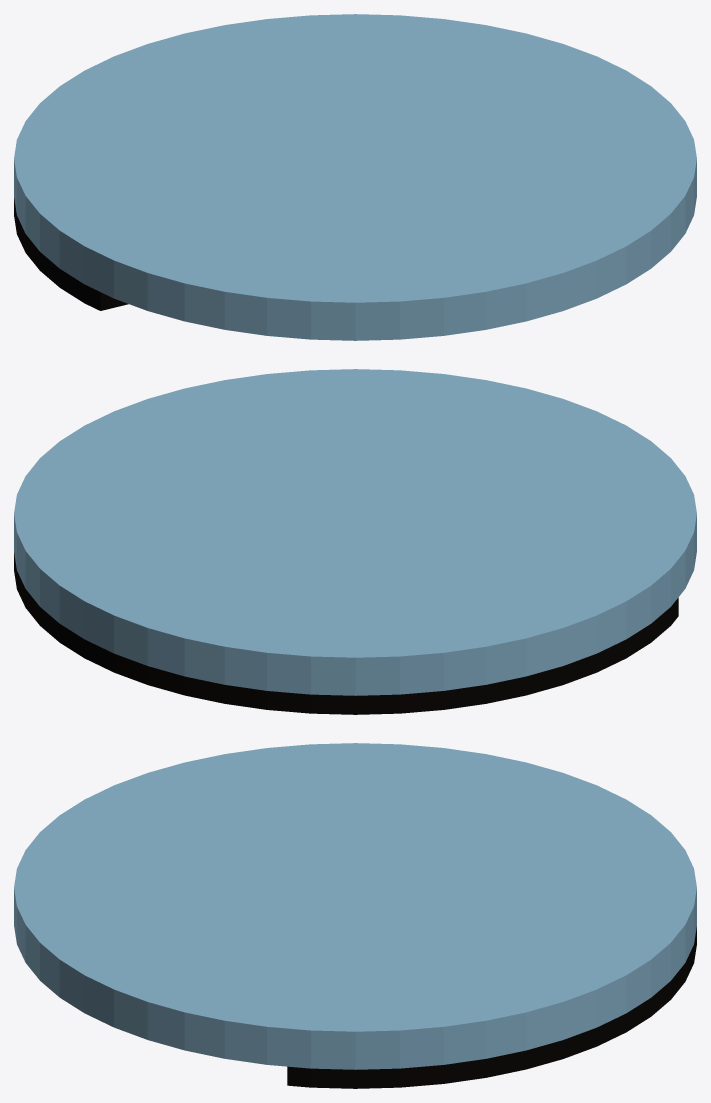
File: sight_glass_ok.obj
3 renders of one model, top to bottom at view 1: azimuth 30°, elevation 25°; view 2: azimuth 150°, elevation 25°; view 3: azimuth 270°, elevation 25°, orthographic.
Visible parts, largest first — view 1: sight_glass_ok; view 2: sight_glass_ok; view 3: sight_glass_ok.
Part boxes in pixels (left/top/right/bottom): sight_glass_ok: left=14, top=14, right=696, bottom=340; sight_glass_ok: left=14, top=369, right=696, bottom=714; sight_glass_ok: left=14, top=743, right=696, bottom=1088.
Bounding box in the file's own units: 0.13 × 0.012 × 0.13.
